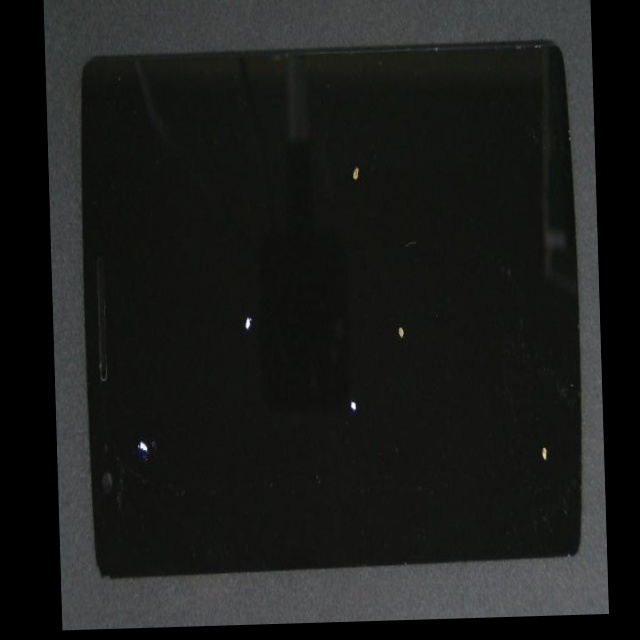stain: (163, 184, 495, 627), (262, 241, 609, 624), (237, 123, 575, 482), (103, 180, 354, 520), (174, 86, 514, 323), (64, 184, 184, 630)
